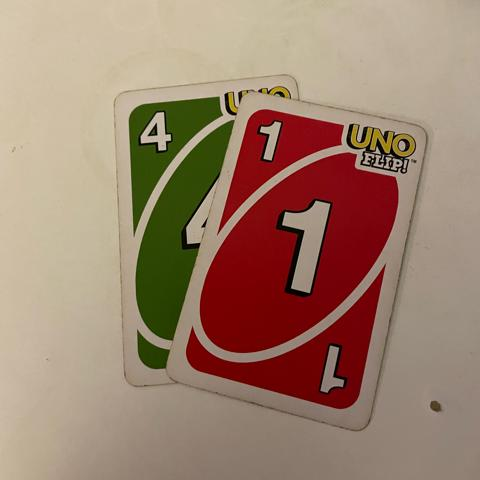lgreen-4: (125, 102, 185, 163)
lred-1: (243, 109, 290, 178)
